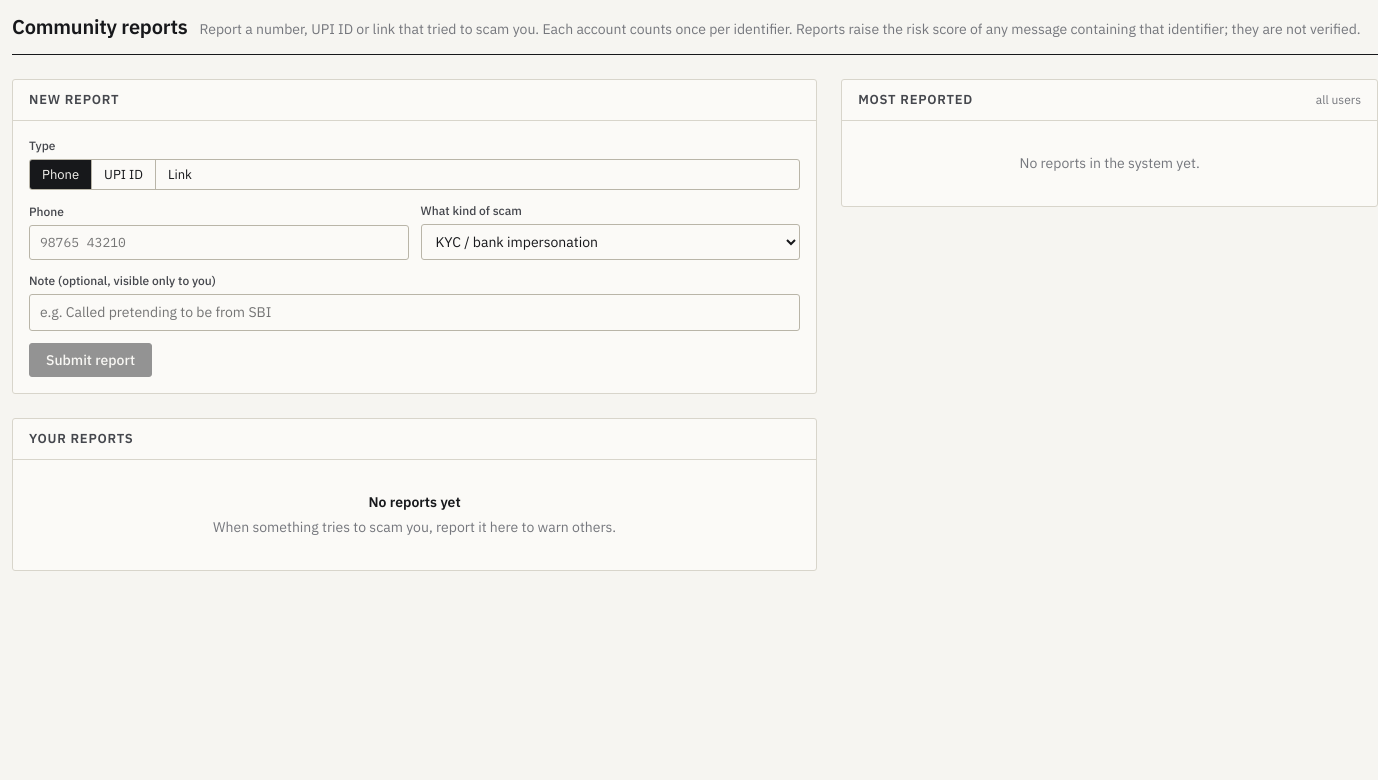
Test case: Reports form › sends the chosen kind and shows the server's duplicate error
In the field with test id "report-value": {"x": 219, "y": 242} [29, 224, 409, 260], type "9876543210"
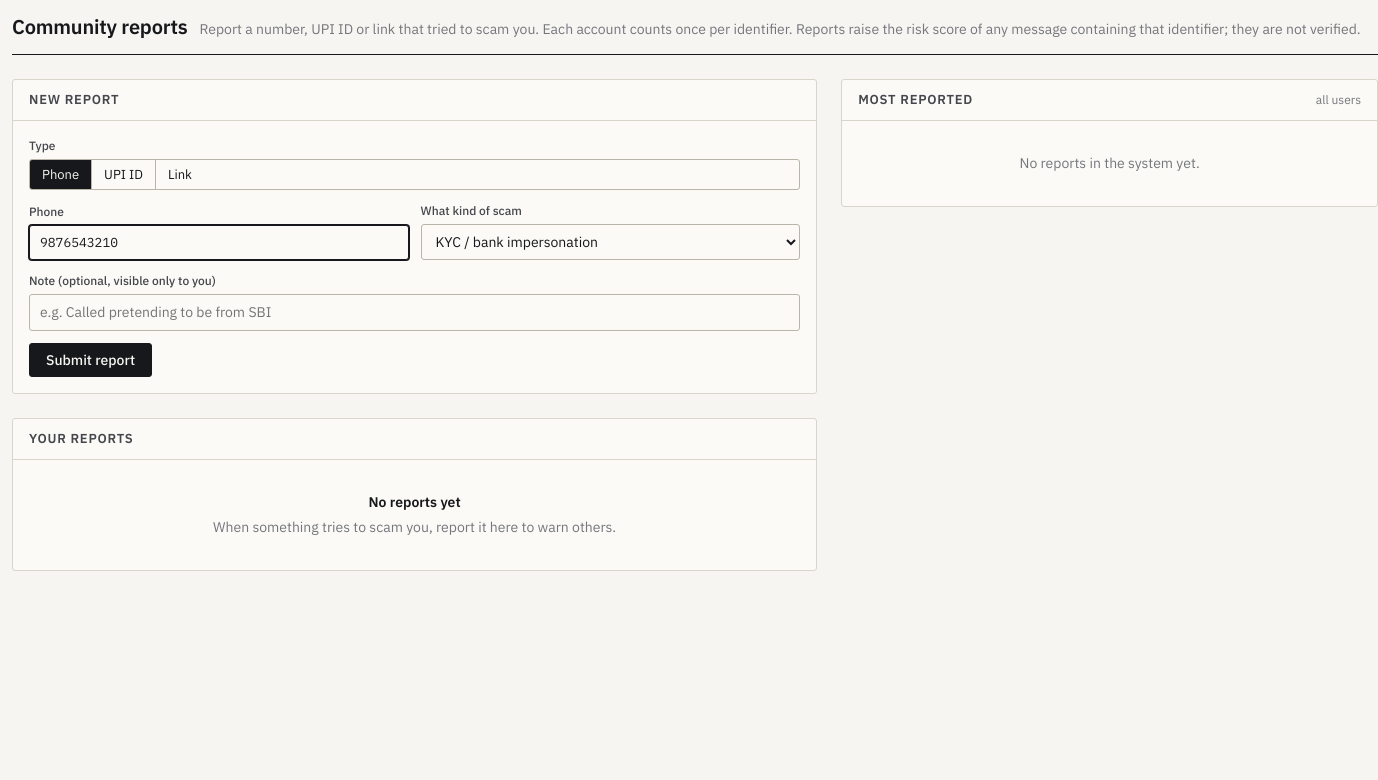
Click the button with test id "report-submit": {"x": 90, "y": 360} [29, 343, 152, 377]
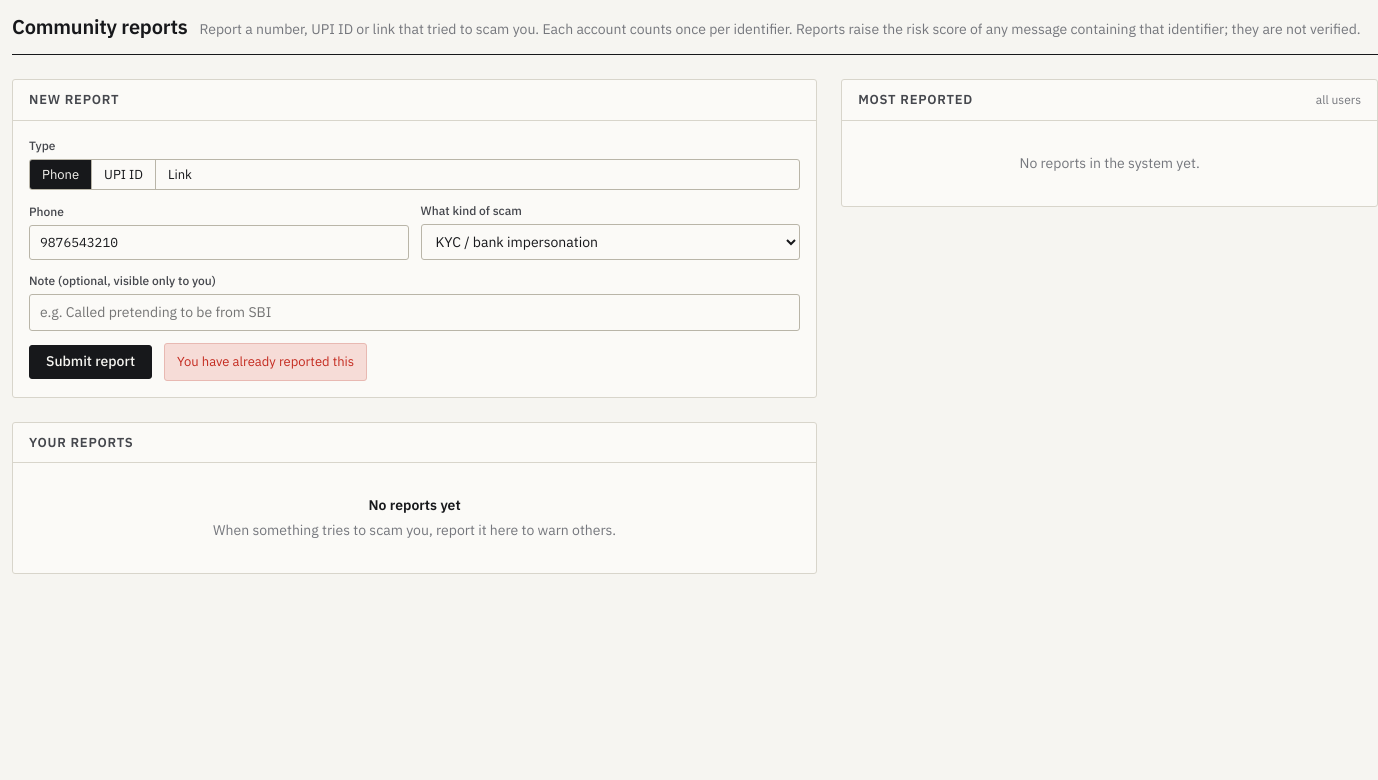
Result: the message with test id "report-msg" shows "already reported" at [177, 353, 354, 370]
